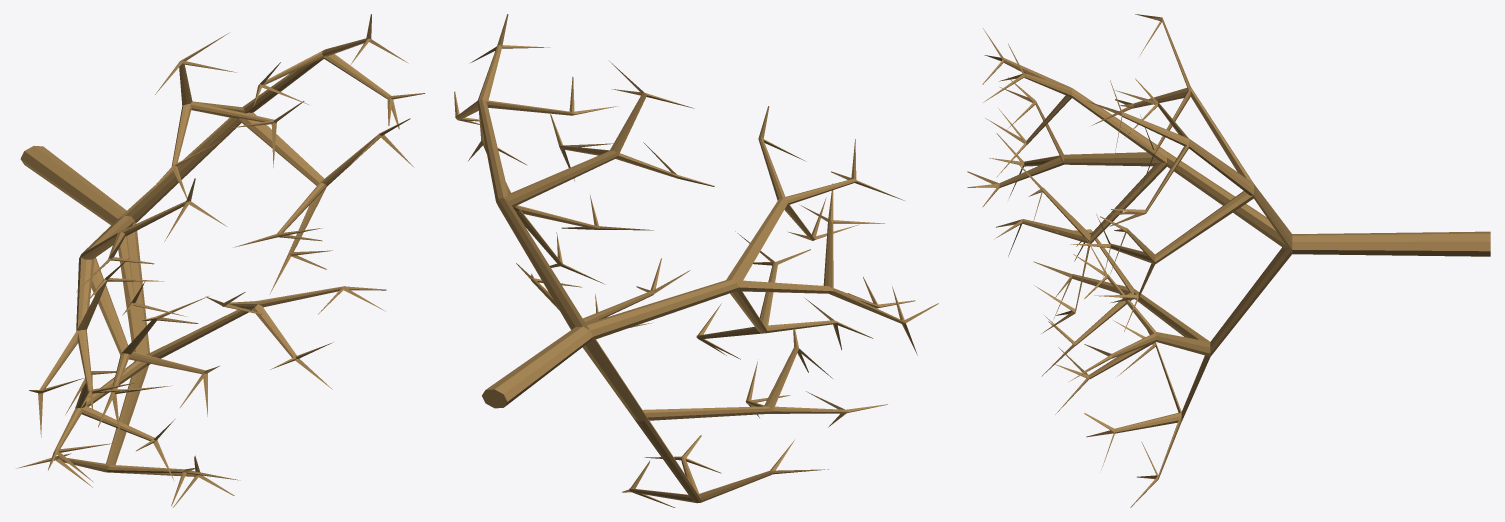
File: bare-tree.glb
3 views of the same model, side by side, from view 1: azimuth 30°, elevation 25°; view 2: azimuth 150°, elevation 25°; view 3: azimuth 270°, elevation 25° (orthographic). The views are drawn at different scales.
Parts seen in each view (by area): view 1: obj_0; view 2: obj_0; view 3: obj_0.
Part boxes in pixels (x1=…): obj_0: x1=16, y1=14, x2=425, y2=507; obj_0: x1=454, y1=14, x2=938, y2=507; obj_0: x1=967, y1=14, x2=1490, y2=507.
Size of the model in its own units: 84.7 by 82.5 by 79.
